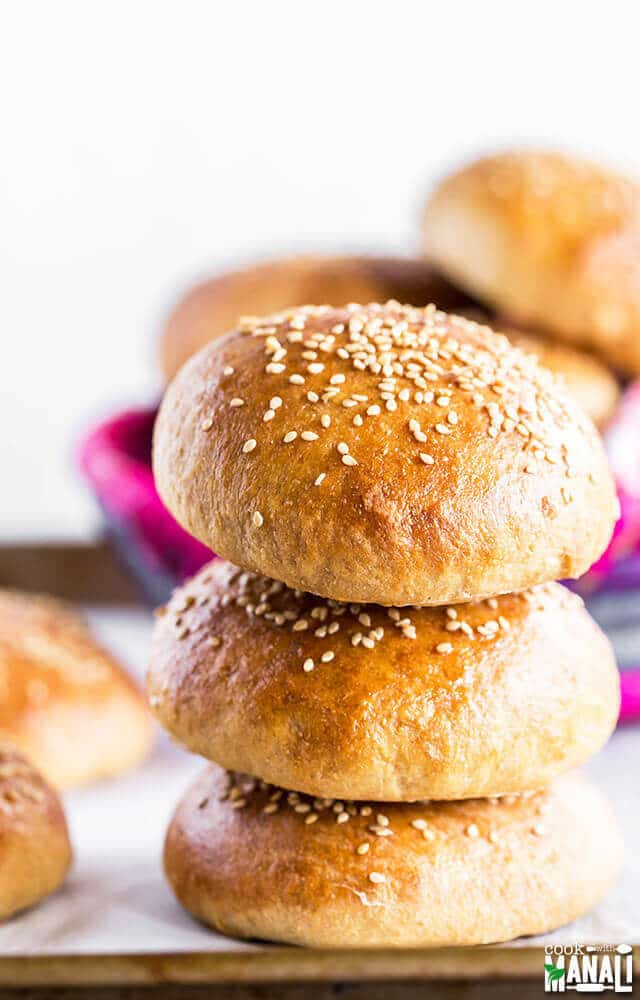hamburger_buns: (145, 291, 633, 609), (121, 549, 624, 783)
